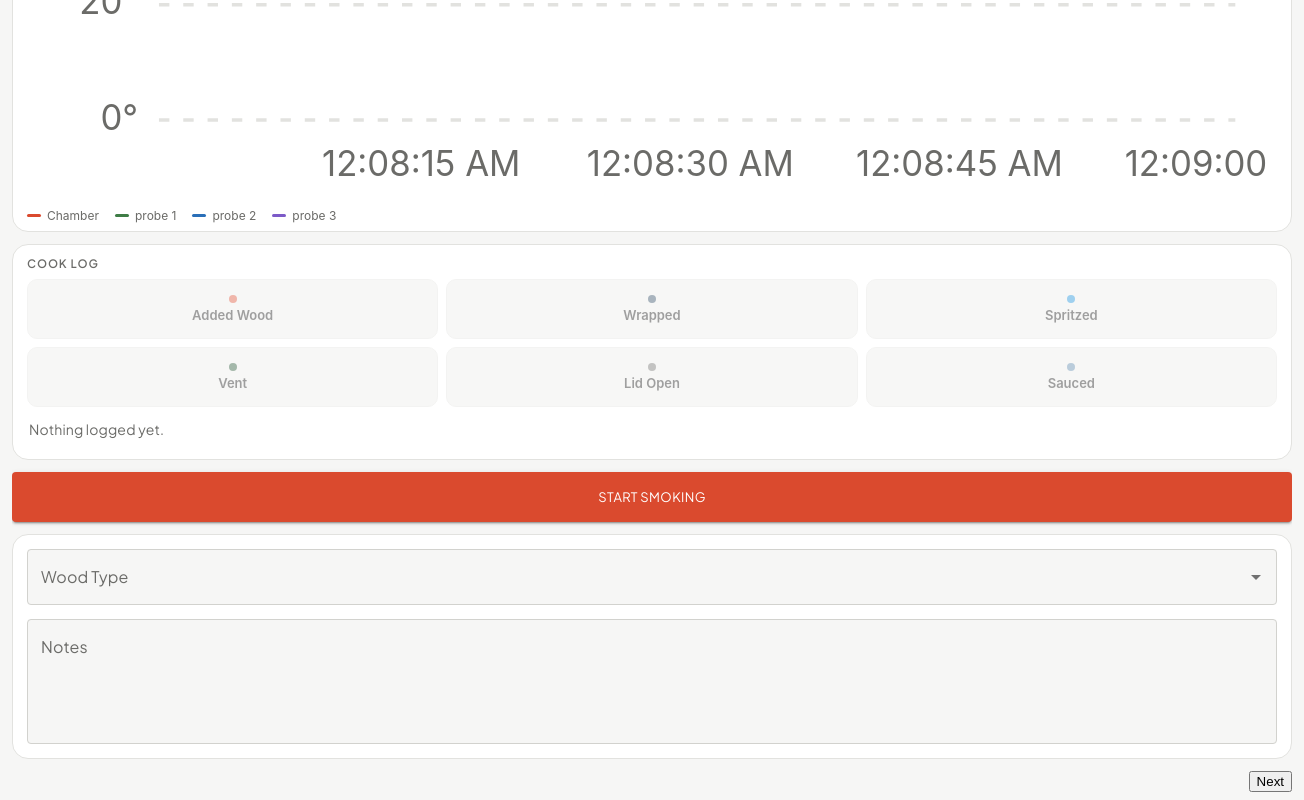
Scenario: the wood picker › opens like a select, on the design’s list of woods
(page scrolled)
Step 1. Click the button named "Open" → x=1256, y=577, box [1242, 563, 1270, 591]
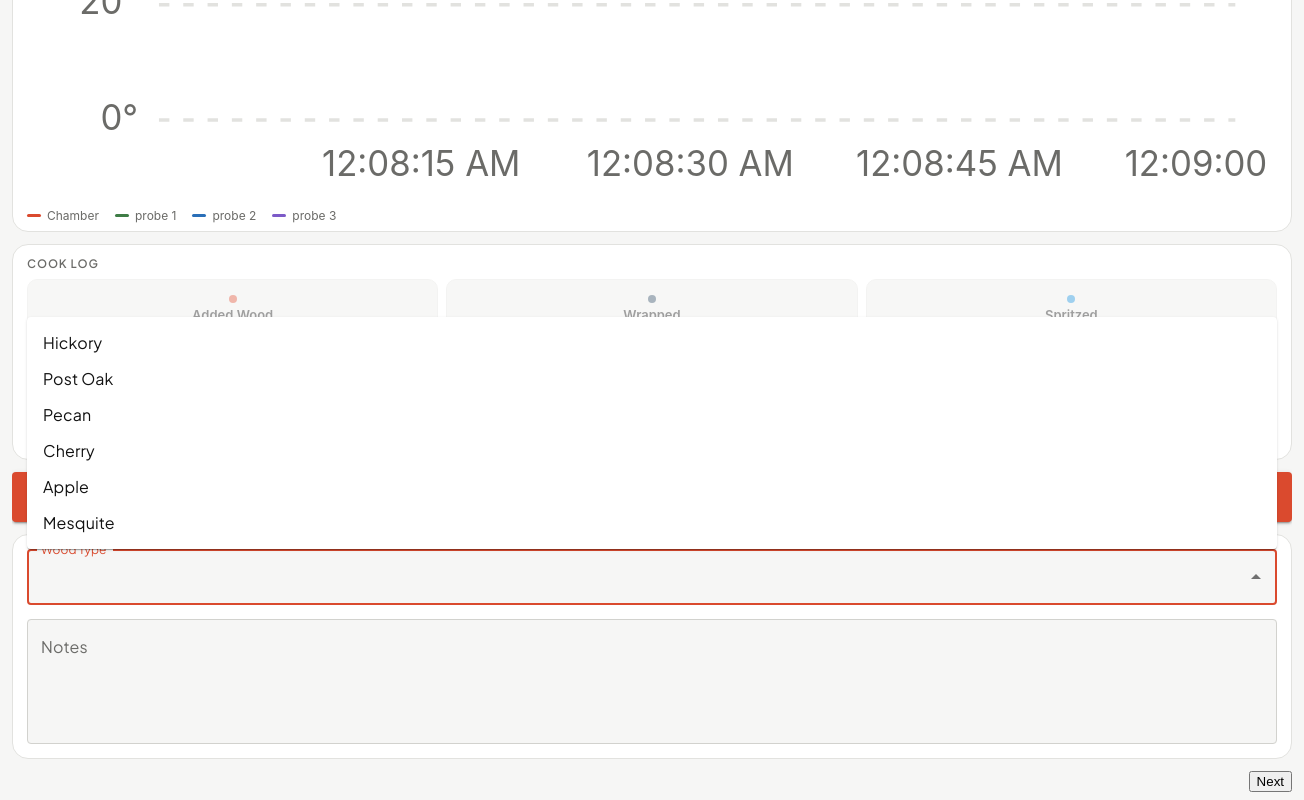
Expected: the options read "Hickory", "Post Oak", "Pecan", "Cherry", "Apple", "Mesquite", in this order, [43, 332, 102, 353]; [43, 368, 114, 389]; [43, 404, 91, 425]; [43, 440, 95, 461]; [43, 476, 89, 497]; [43, 512, 115, 533]
